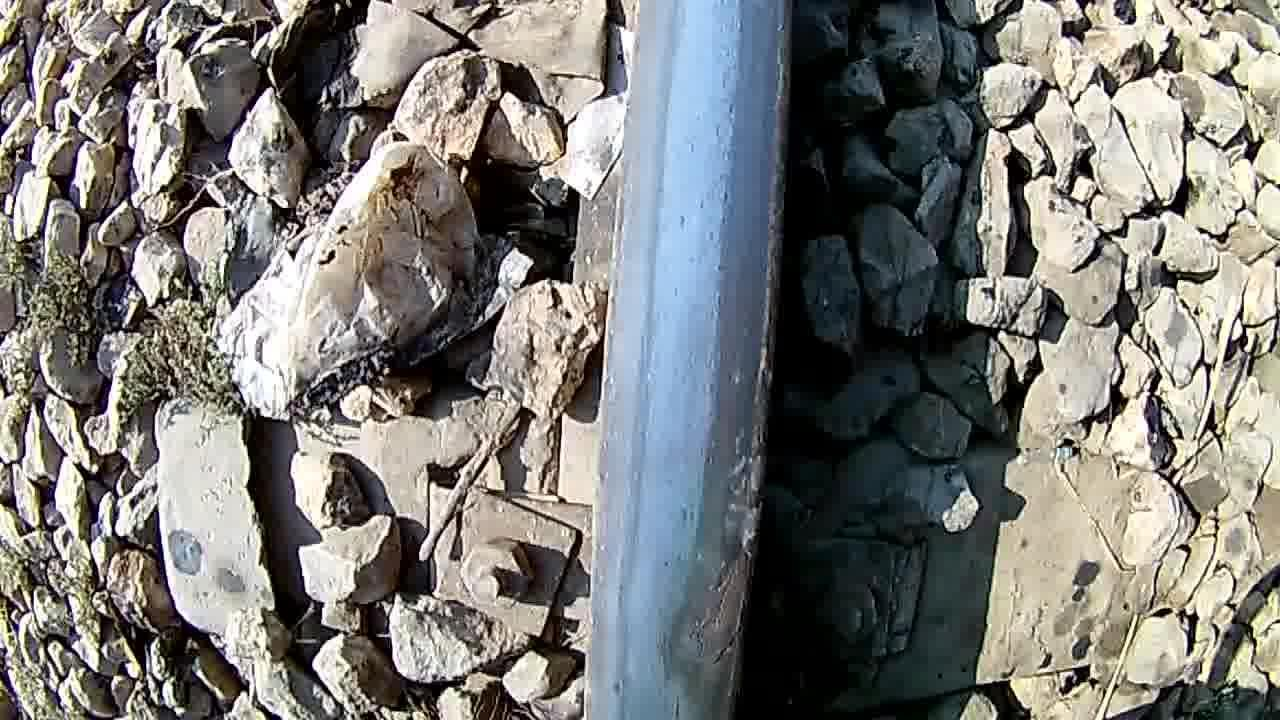crack: (616, 1, 788, 510), (612, 529, 750, 720)
